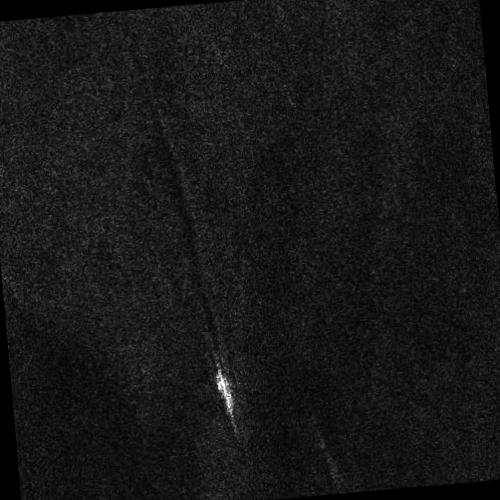ship: (213, 359, 234, 421)
